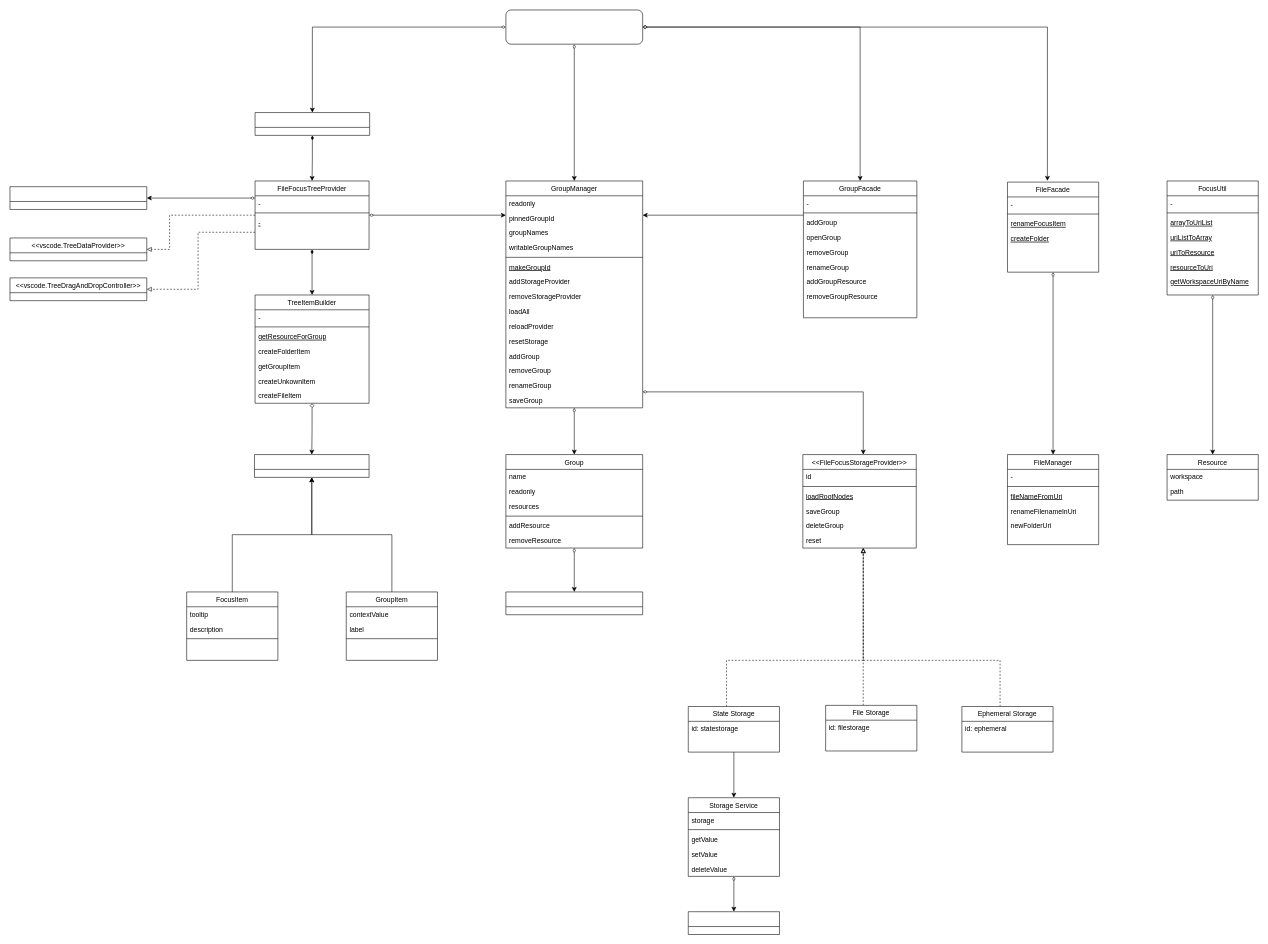
Some shapes in this 1268 by 944 pixel diagram are drawn without their labels. The shapes that lost their labels are listed below. From the top down, each one's centre as x and y in pixels, then its label:
At point (574, 26): "extension.ts".
At point (312, 123): "vscode.TreeView".
At point (78, 197): "vscode.ExtensionContext".
At point (311, 465): "vscode.TreeItem".
At point (574, 603): "vscode.Uri".
At point (733, 923): "vscode.Memento".
